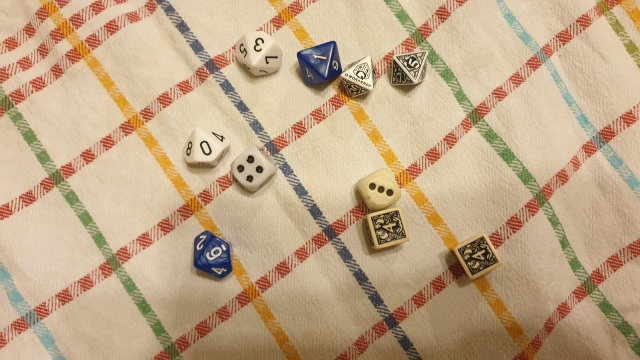d10-1: (299, 38, 336, 85)
d10-10: (176, 125, 234, 172)
d10-3: (228, 31, 288, 79)
d10-6: (191, 227, 237, 286)
d6-3: (349, 165, 406, 214)
d6-4: (231, 143, 278, 195)
d6p-4: (448, 223, 506, 292), (356, 209, 412, 252)
d8p-5: (388, 46, 433, 93)
d8p-8: (334, 49, 380, 103)
